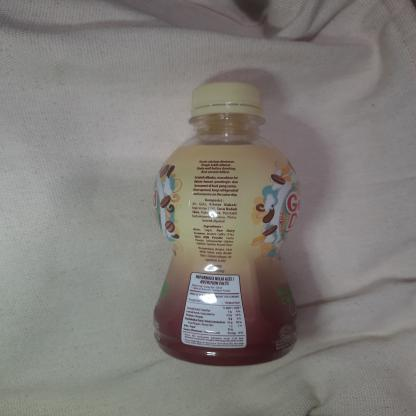bottle: (146, 79, 308, 367)
